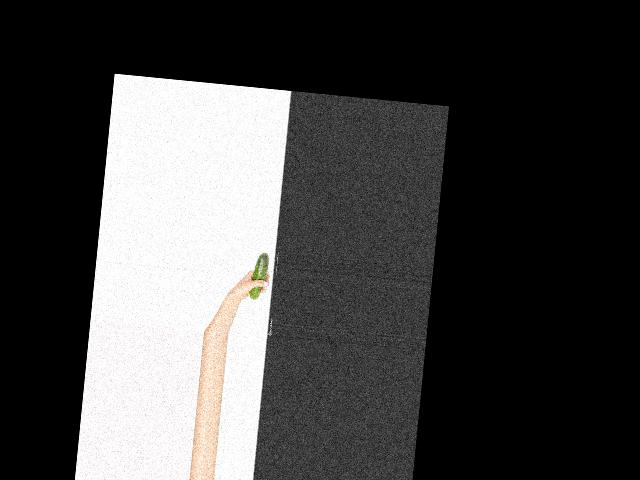cucumber: (249, 250, 270, 300)
